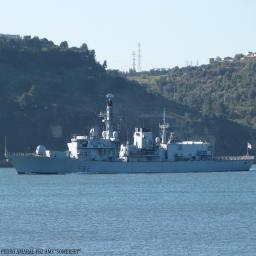Fragata: (5, 92, 256, 180)
